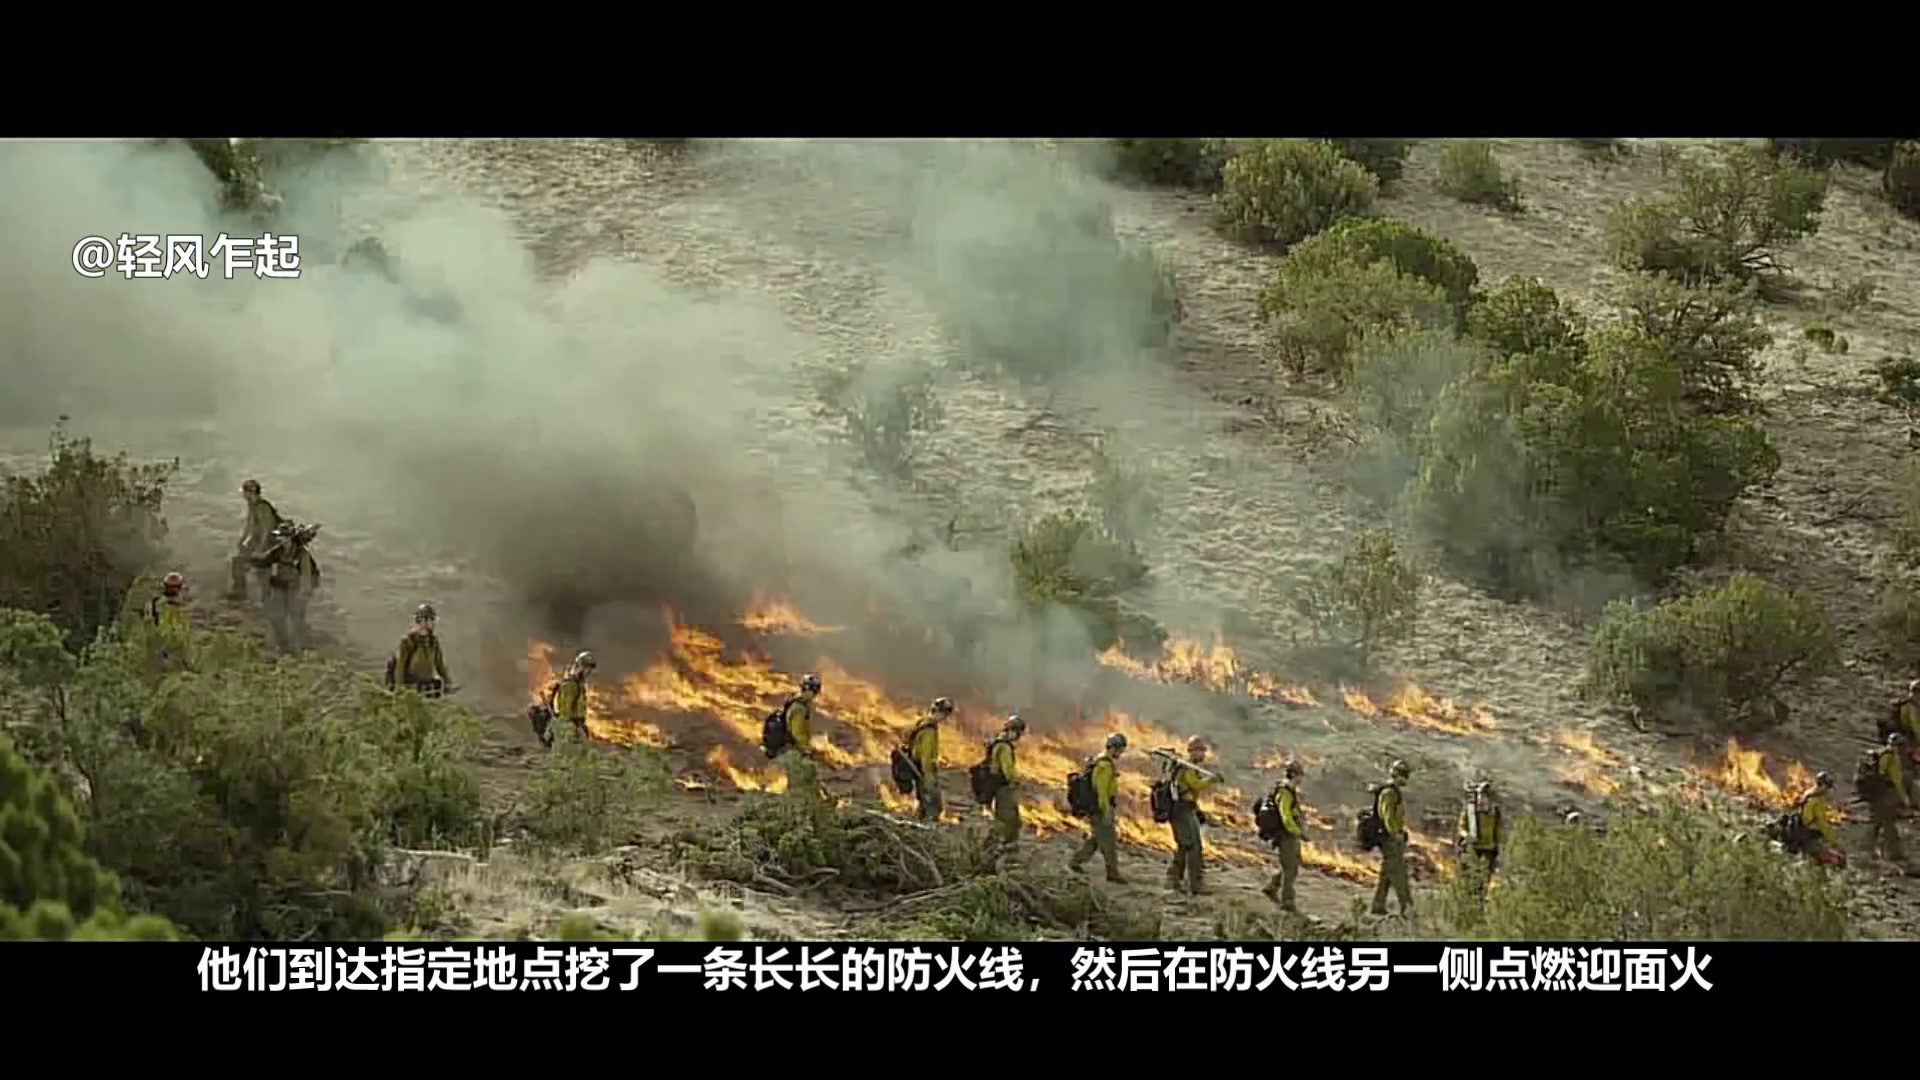fire: (641, 654, 793, 724), (1153, 644, 1249, 690), (1396, 684, 1466, 736), (1720, 740, 1778, 800), (1302, 835, 1371, 880), (723, 761, 793, 800), (1015, 742, 1064, 787), (1112, 814, 1168, 848)
